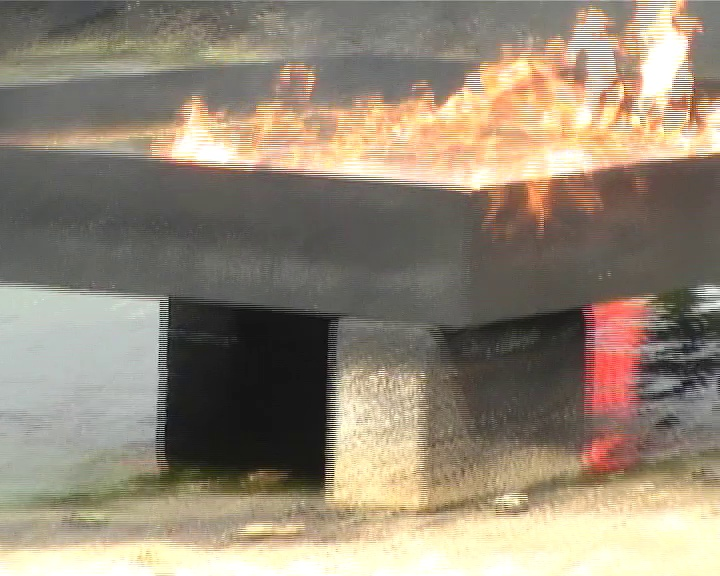fire: (159, 1, 691, 167)
